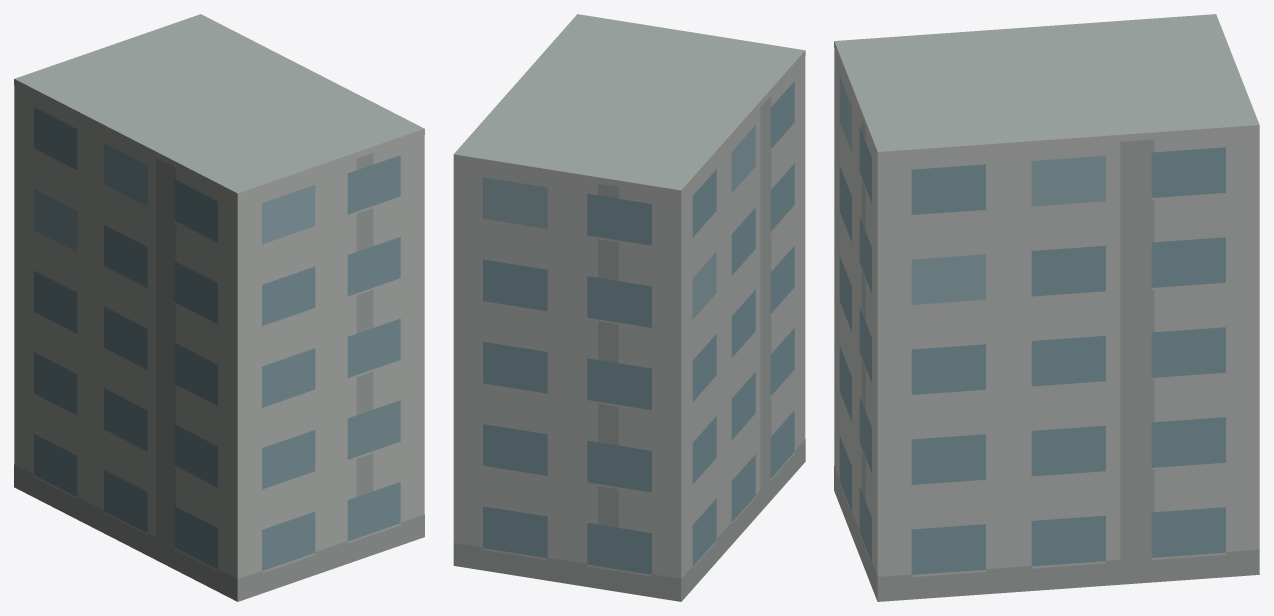
The model's file is survey-upis-32637104.glb.
3 views of the same model, side by side, from view 1: azimuth 30°, elevation 25°; view 2: azimuth 150°, elevation 25°; view 3: azimuth 270°, elevation 25° (orthographic). The views are drawn at different scales.
Parts seen in each view (by area): view 1: survey-upis-32637104.tmp; view 2: survey-upis-32637104.tmp; view 3: survey-upis-32637104.tmp.
Part boxes in pixels (<box>): survey-upis-32637104.tmp: <box>14,14,424,601</box>; survey-upis-32637104.tmp: <box>453,14,805,601</box>; survey-upis-32637104.tmp: <box>834,14,1259,601</box>.
Size of the model in its own units: 10.28 by 15.6 by 13.38.
